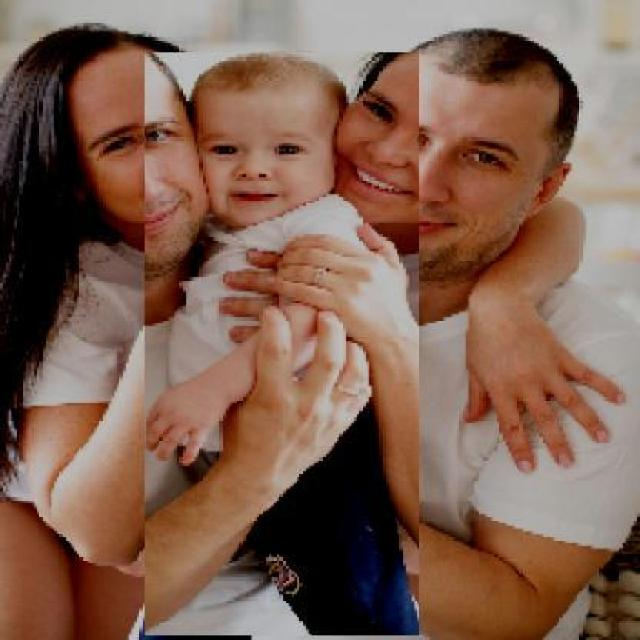child: (143, 52, 420, 637)
